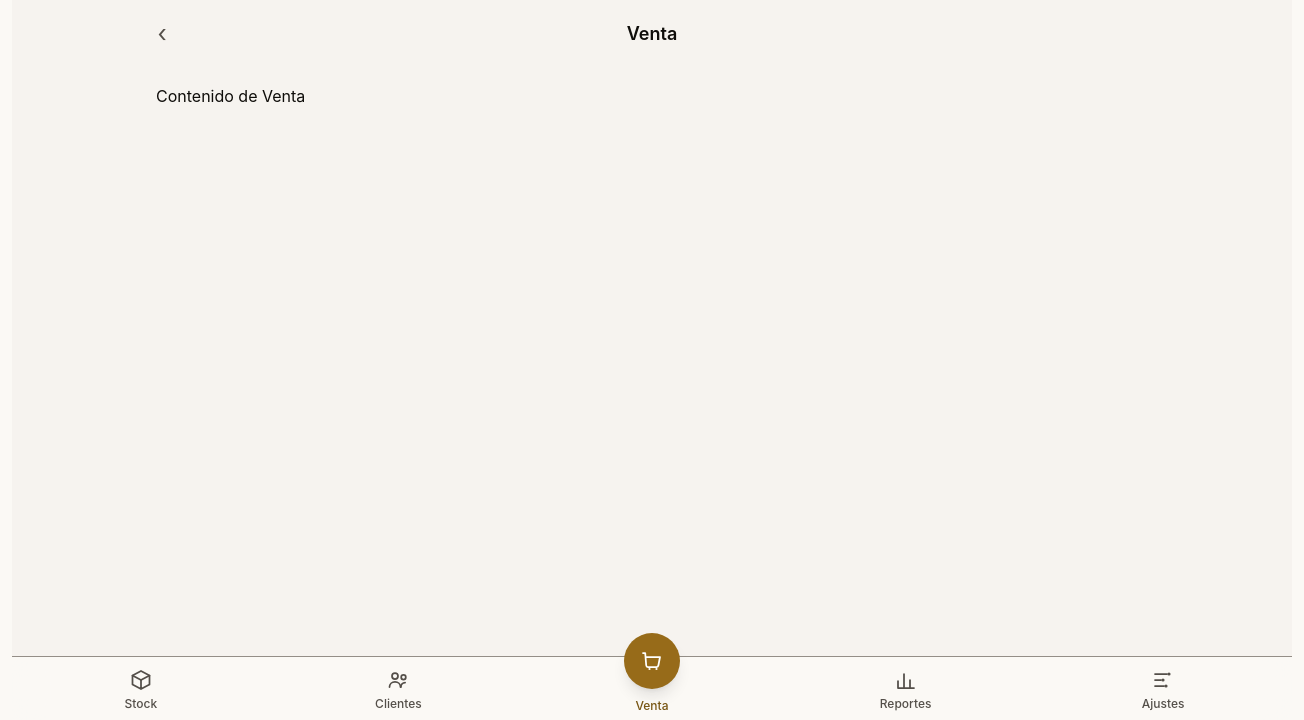
Test: Shell › NAV-2c: `‹` consciente del historial (docs/06-ui-ux.md §2, 2026-07-14) › caso entrada directa por URL a la venta: el back va al fallback `/historial`, no hay ficha de cliente a la que volver
Expected: the heading "Venta" is shown, [627,20,677,48]
Step 1. Click the button named "Volver" → (162, 34), box [140,12,184,56]
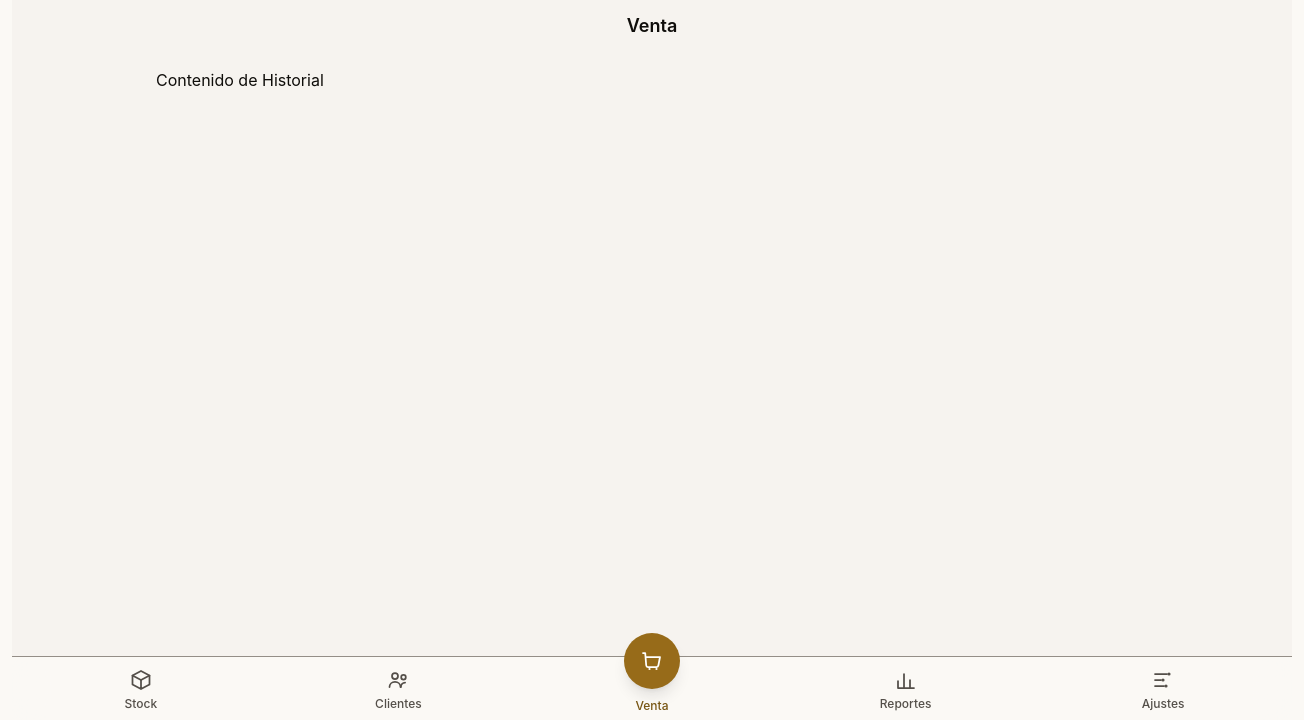
Result: the text "Contenido de Historial" is shown at [156,70,324,90]
